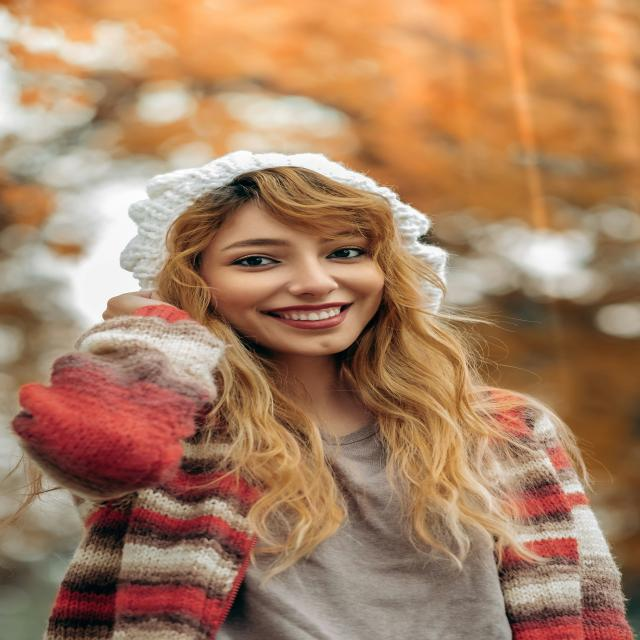human: (12, 138, 640, 640)
